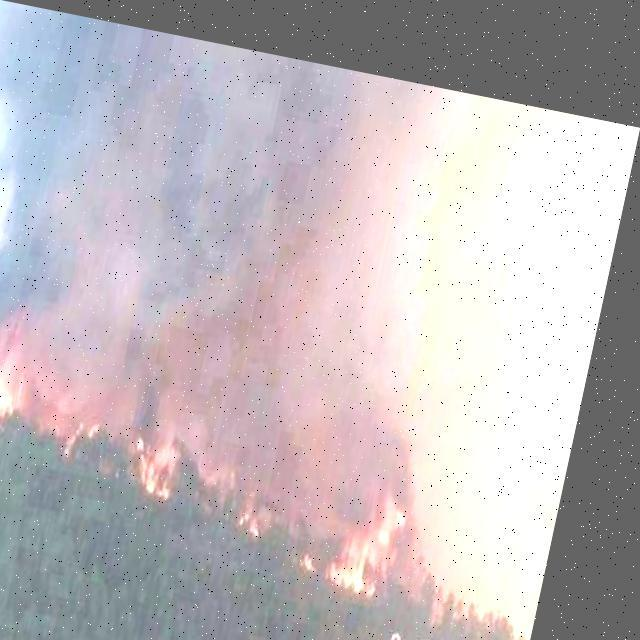Fire: (338, 461, 431, 584), (144, 412, 206, 494), (0, 341, 40, 422), (256, 480, 286, 526)
